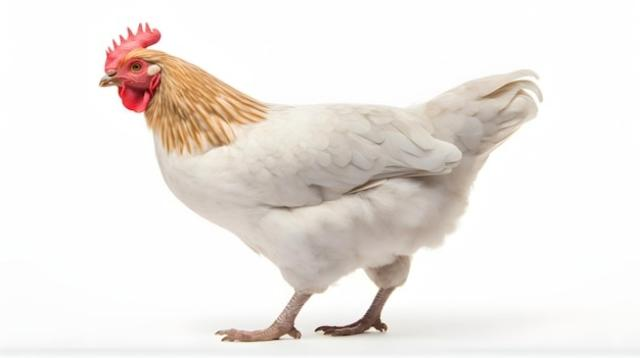Chicken: (99, 21, 543, 343)
